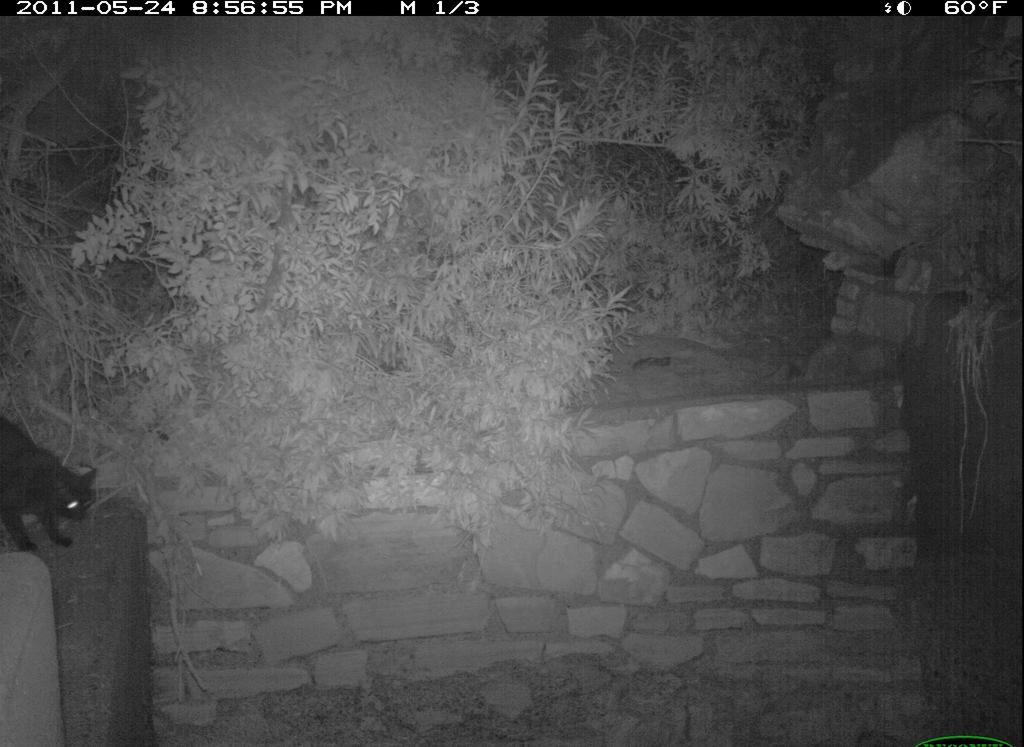cat: (3, 414, 108, 562)
